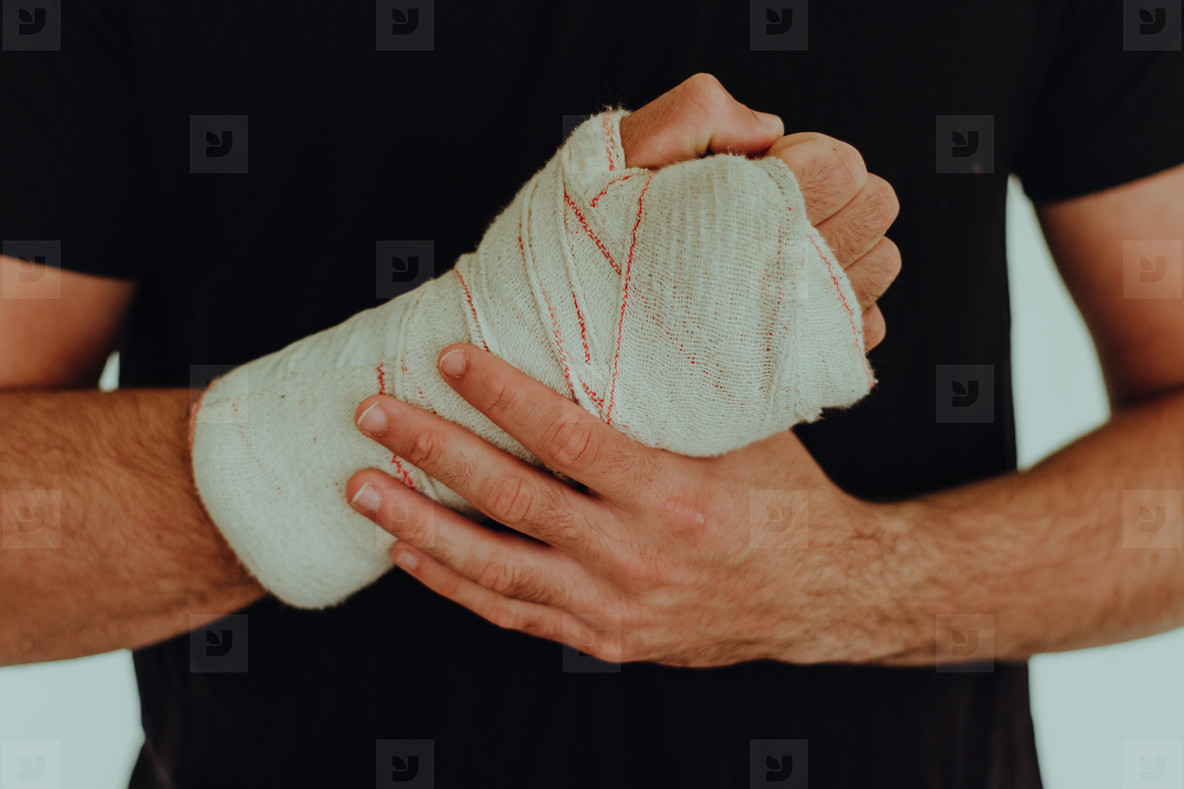injured: (183, 142, 873, 523)
